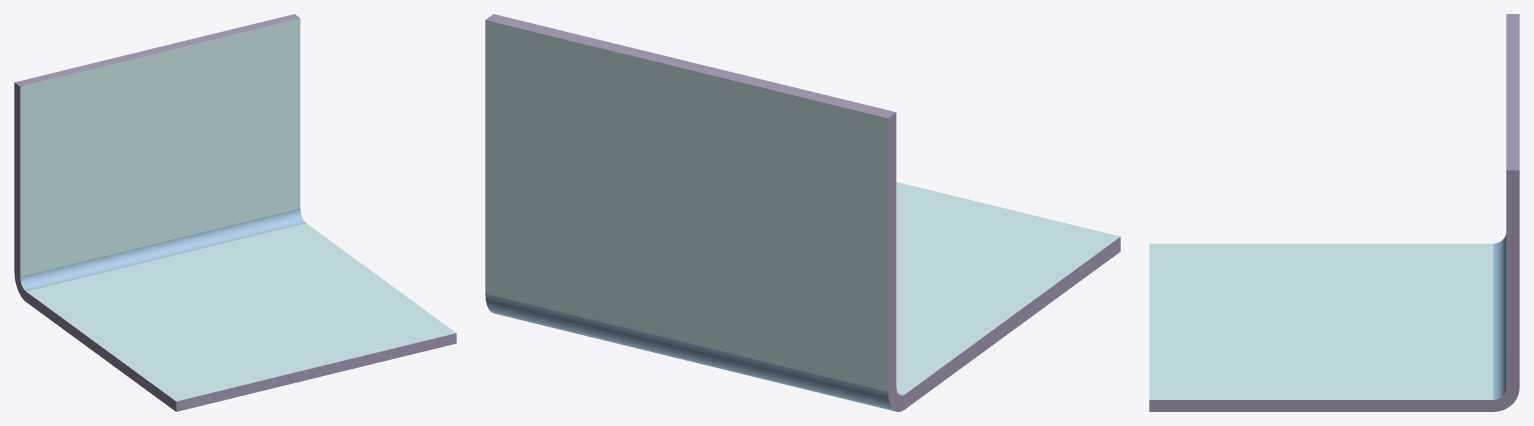
The picture shows the model from 3 angles, left to right: view 1: azimuth 30°, elevation 25°; view 2: azimuth 150°, elevation 25°; view 3: azimuth 270°, elevation 25°; orthographic projection. The views are drawn at different scales.
Parts seen in each view (by area): view 1: Featured solid; view 2: Featured solid; view 3: Featured solid.
Boxes of the visible parts, box(x1,y1,x2,y2) form: Featured solid: box(14, 14, 456, 411); Featured solid: box(485, 14, 1120, 411); Featured solid: box(1149, 14, 1519, 411).
Bounding box in the file's own units: 25 × 18 × 25.
